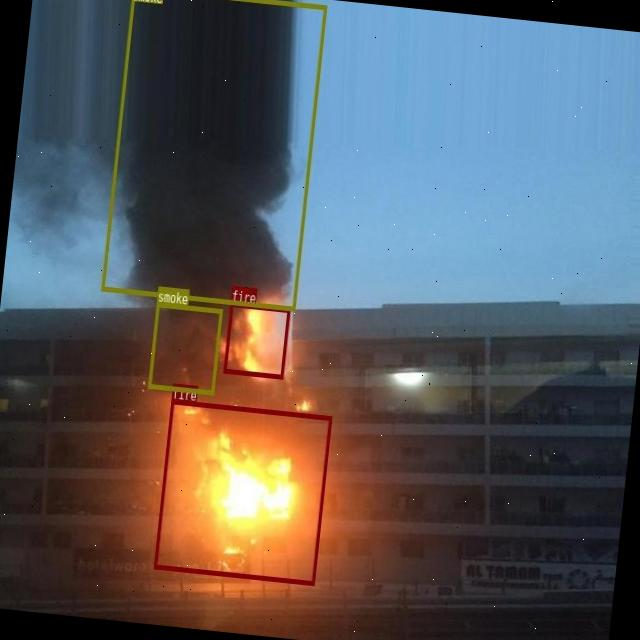fire: (153, 399, 331, 585), (223, 302, 290, 378)
smoke: (101, 0, 326, 310), (147, 302, 222, 394)
